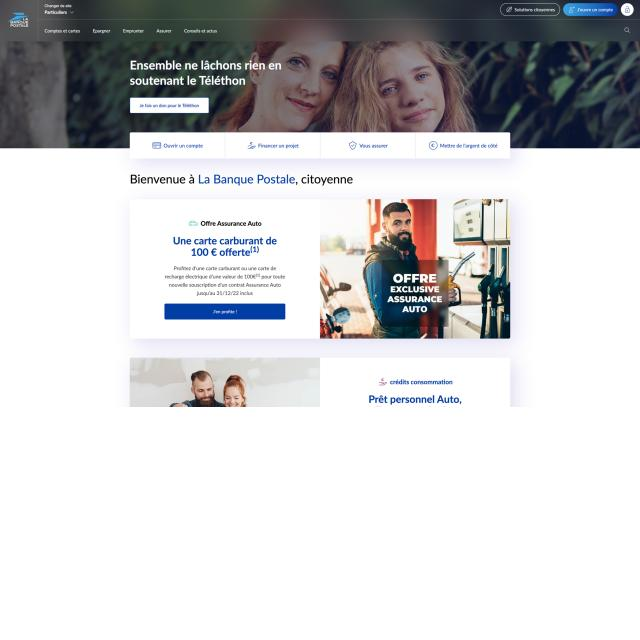logo: (5, 10, 32, 30)
navigation: (129, 131, 511, 160), (44, 26, 219, 36)
